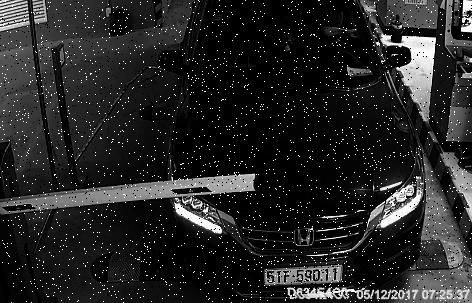License-plate: (261, 258, 357, 298)
